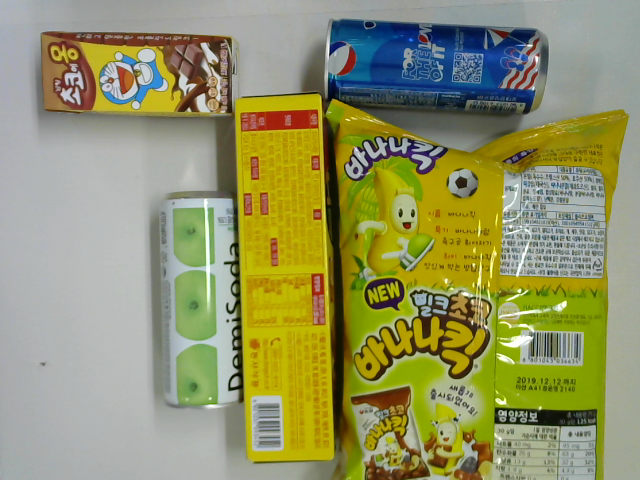Banana_Kick: (326, 95, 630, 480)
Choco_E_Mong: (40, 30, 236, 120)
Demisoda_Apple_Can_250ml: (158, 189, 246, 410)
Pepsi_Cola_Can_250ml: (322, 16, 549, 119)
Ritz_Remon_96g: (233, 90, 342, 468)
